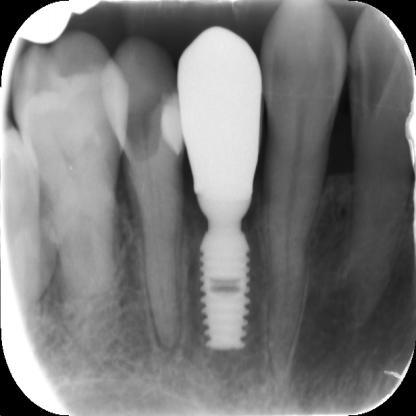Bicon: (174, 174, 262, 364)
